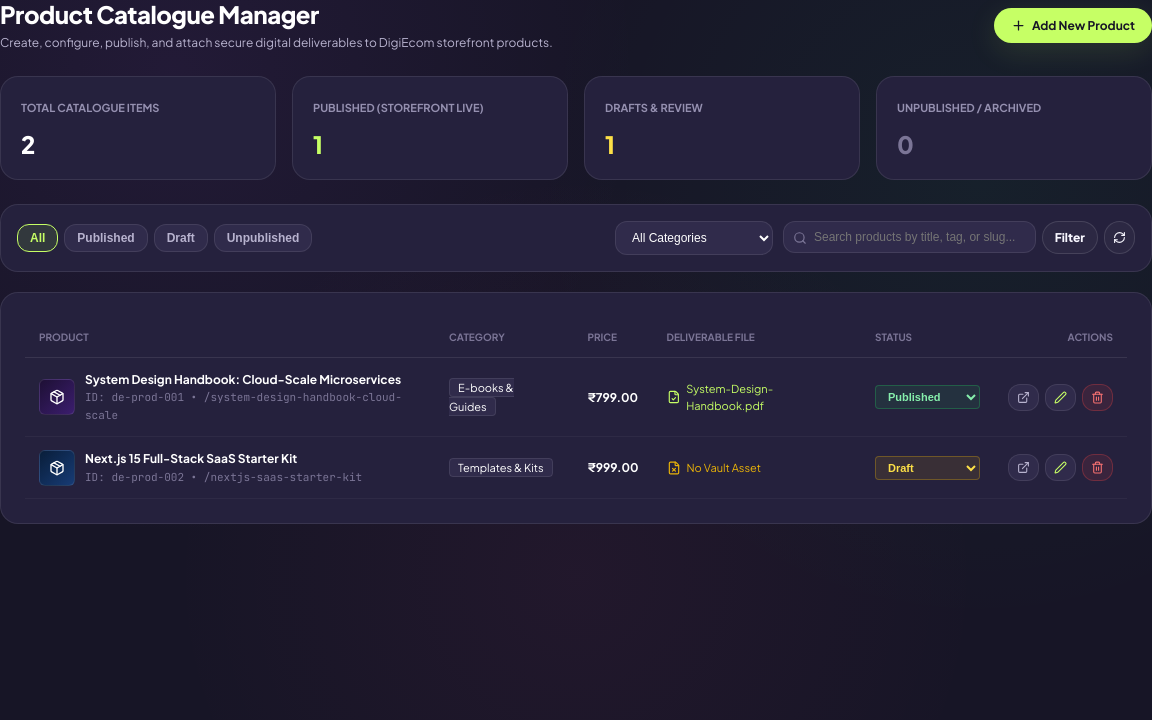
Test: Admin Products UI (Phase 2) › opens Product Form Modal in Edit mode when clicking Edit button
Expected: the text "System Design Handbook: Cloud-Scale Microservices" is shown, [85,370,421,389]
Click the button titled "Edit product" in the row of "de-prod-001" at (1060, 397), box [1045,384,1076,411]
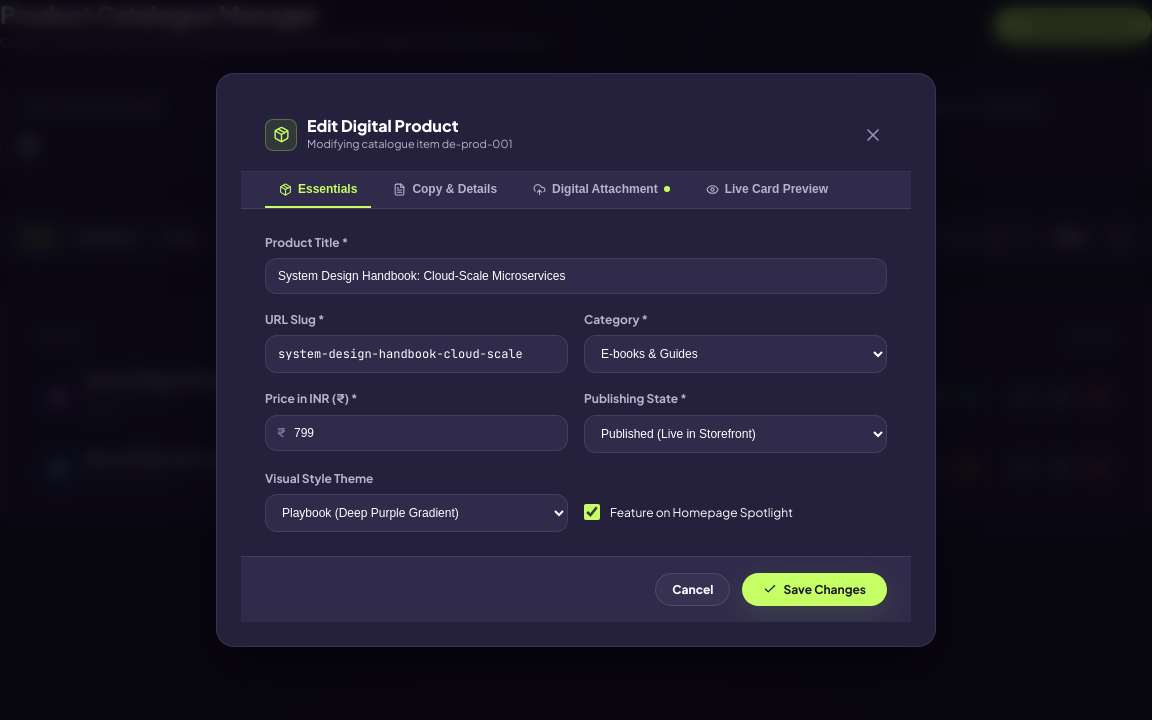
Expected: the heading "Edit Digital Product" is shown, [307,115,458,136]
Expected: the field showing "System Design Handbook: Cloud-Scale Microservices" below "Product Title *" is shown, [265,258,887,294]
